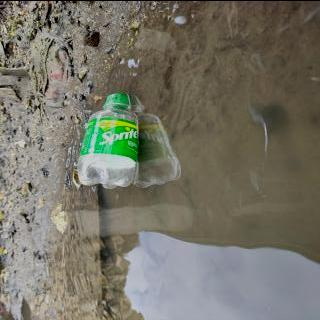bottle: (73, 90, 144, 189)
